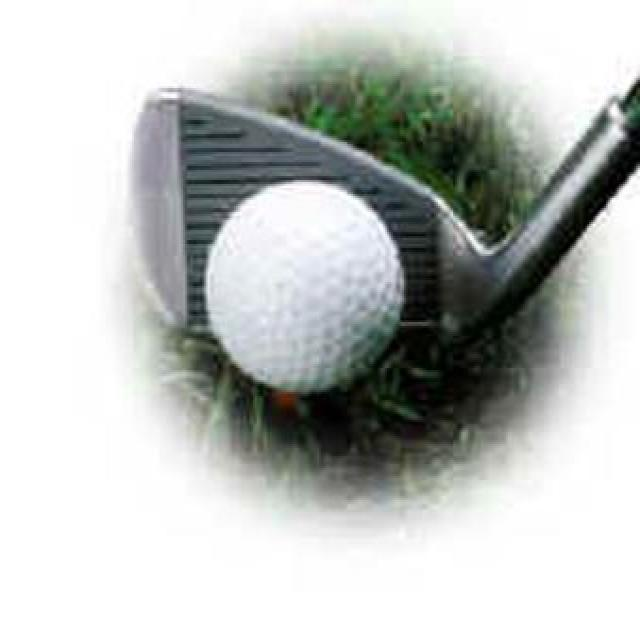golfball: (184, 172, 413, 402)
